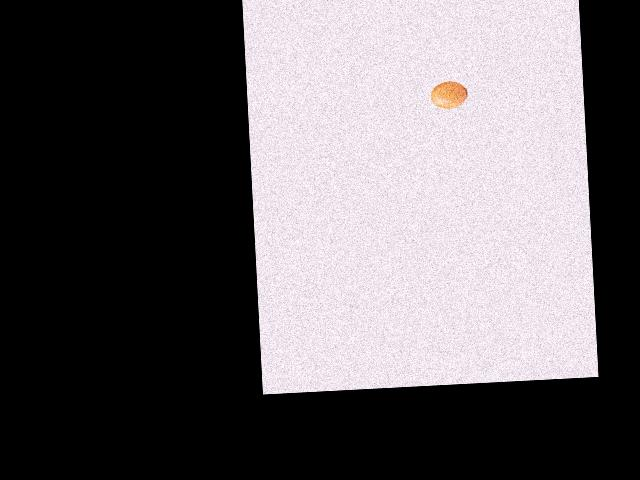egg: (429, 80, 468, 108)
